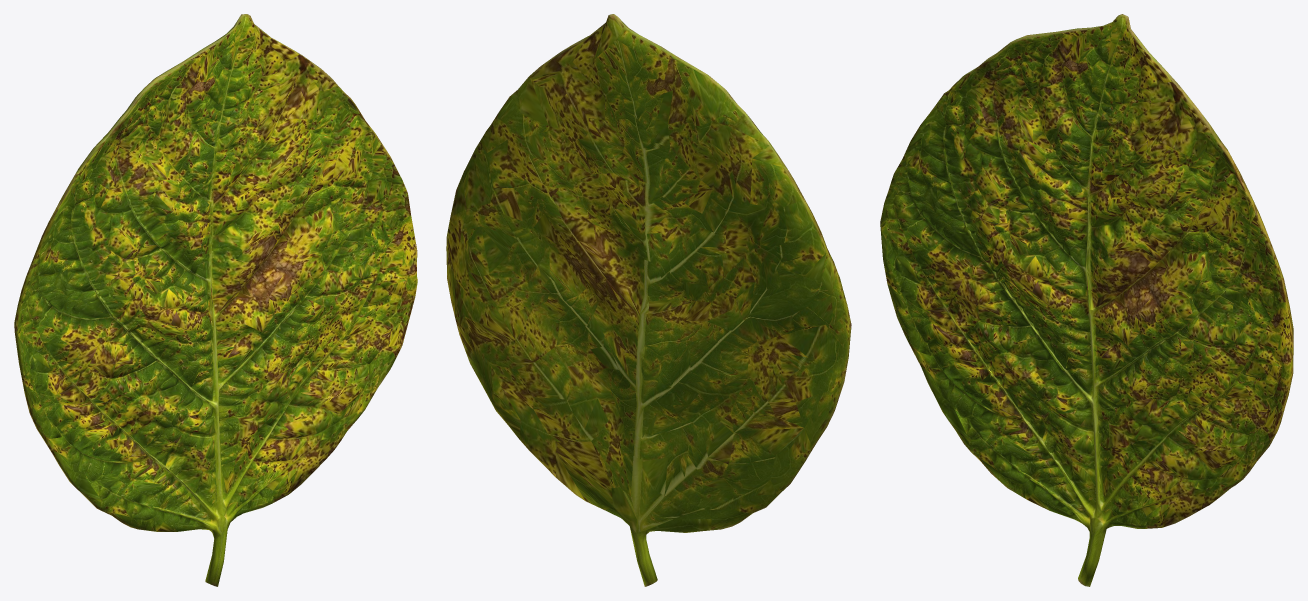
File: soybean_soybean_rust.glb
3 views of the same model, side by side, from view 1: azimuth 30°, elevation 25°; view 2: azimuth 150°, elevation 25°; view 3: azimuth 330°, elevation 25° (orthographic). The views are drawn at different scales.
Parts seen in each view (by area): view 1: soybean_soybean_rust; view 2: soybean_soybean_rust; view 3: soybean_soybean_rust.
Boxes of the visible parts, <box> form: soybean_soybean_rust: <box>14,14,417,586</box>; soybean_soybean_rust: <box>446,14,851,586</box>; soybean_soybean_rust: <box>880,14,1293,586</box>.
Bounding box in the file's own units: 0.7471 × 1 × 0.033.
Materials: 1 (1 with a texture image).
